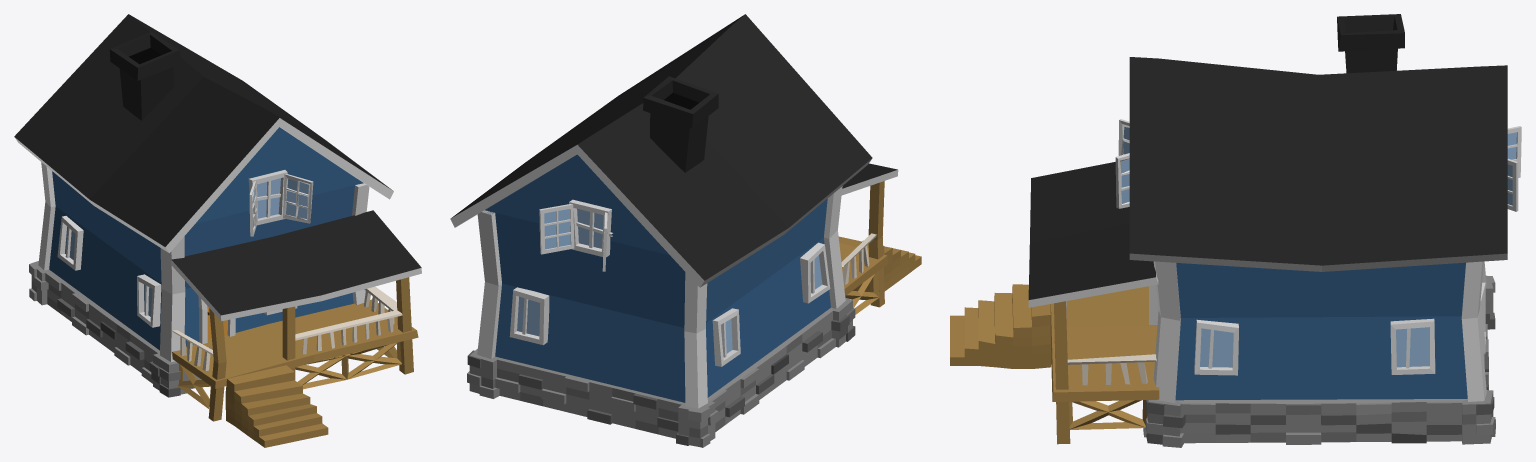
File: wonky blue house edit.fbx
3 views of the same model, side by side, from view 1: azimuth 30°, elevation 25°; view 2: azimuth 150°, elevation 25°; view 3: azimuth 270°, elevation 25° (orthographic). The views are drawn at different scales.
Visible parts, largest first — view 1: wonky blue house_LOD0; view 2: wonky blue house_LOD0; view 3: wonky blue house_LOD0.
Boxes of the visible parts, <box> form: wonky blue house_LOD0: <box>14,14,421,447</box>; wonky blue house_LOD0: <box>450,14,921,447</box>; wonky blue house_LOD0: <box>950,14,1521,447</box>.
Size of what is drawn, in the model's own units: 9.79 by 10.75 by 16.41.
